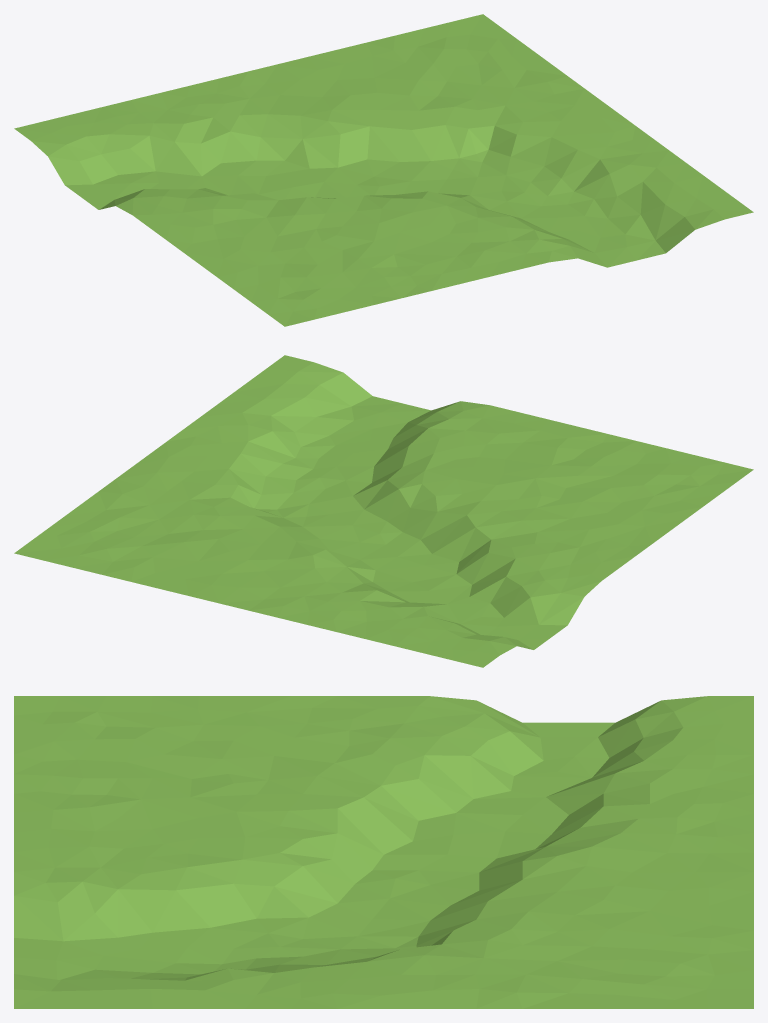
The model's file is MT_River_M_b_01_R_LOD.fbx.
The picture shows the model from 3 angles, top to bottom: view 1: azimuth 30°, elevation 25°; view 2: azimuth 150°, elevation 25°; view 3: azimuth 270°, elevation 25°; orthographic projection. The views are drawn at different scales.
Visible parts, largest first — view 1: MT_River_M_b_01_R_LOD0; view 2: MT_River_M_b_01_R_LOD0; view 3: MT_River_M_b_01_R_LOD0.
Boxes of the visible parts, box(x1,y1,x2,y2) form: MT_River_M_b_01_R_LOD0: box(14, 14, 753, 326); MT_River_M_b_01_R_LOD0: box(14, 355, 753, 667); MT_River_M_b_01_R_LOD0: box(14, 696, 753, 1008).
Size of what is drawn, in the model's own units: 5000 by 225 by 5000.
